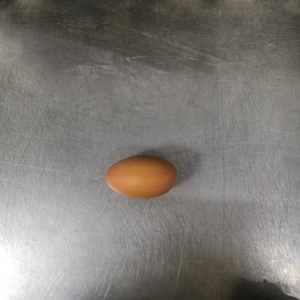brown egg: (105, 154, 178, 199)
